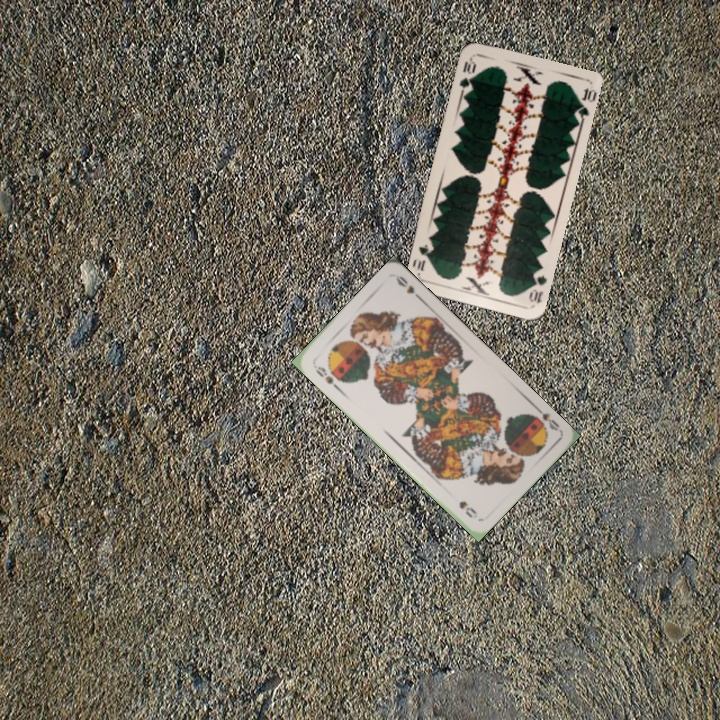G10: (455, 54, 479, 95), (525, 271, 550, 306)
SO: (525, 402, 562, 434), (310, 359, 342, 392)
